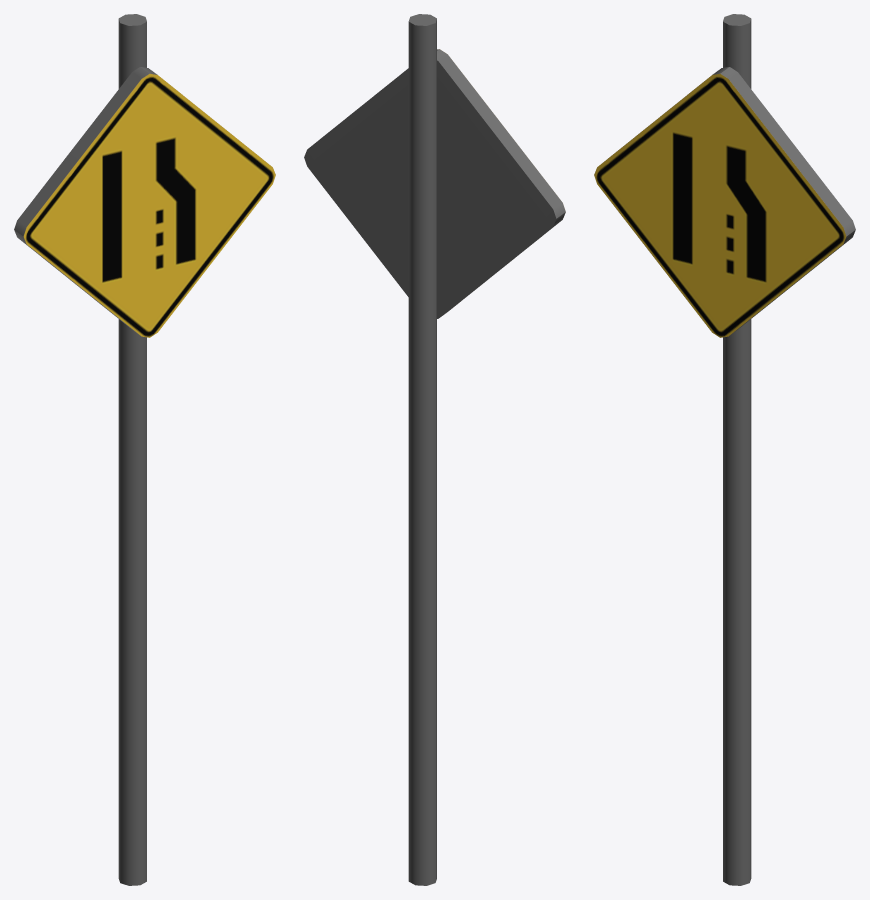
Rendered from sm_mergeSign_GEO.fbx.
The picture shows the model from 3 angles, left to right: view 1: azimuth 30°, elevation 25°; view 2: azimuth 150°, elevation 25°; view 3: azimuth 330°, elevation 25°; orthographic projection.
Visible parts, largest first — view 1: sm_mergeSign_GEO; view 2: sm_mergeSign_GEO; view 3: sm_mergeSign_GEO.
Part boxes in pixels (box(x1,y1,x2,y2)): sm_mergeSign_GEO: box(14, 14, 275, 885); sm_mergeSign_GEO: box(304, 14, 565, 885); sm_mergeSign_GEO: box(594, 14, 855, 885).
Size of the model in its own units: 1.08 by 3.5 by 0.1786.
Materials: 1 (1 with a texture image).
